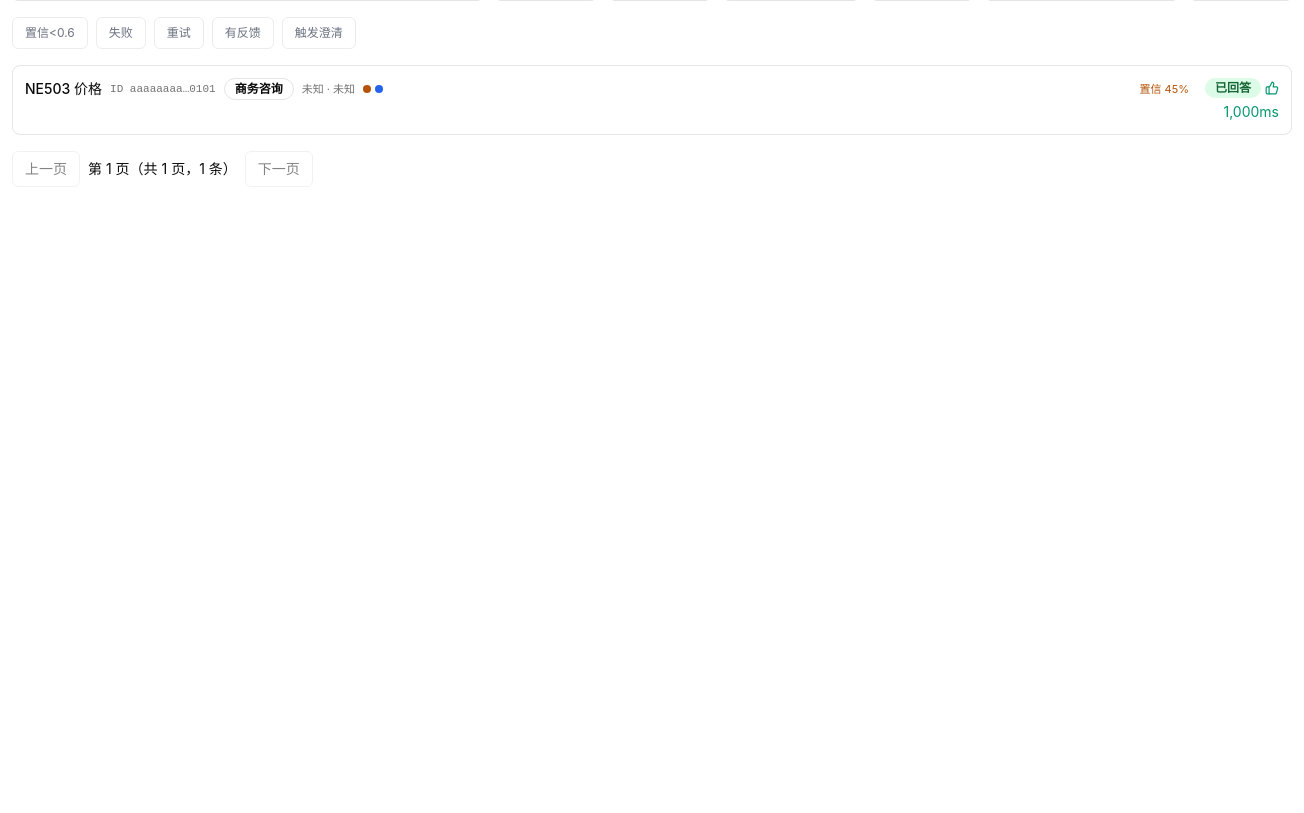
Test: Conversations 审查页 › commercial 对话显示联系销售提示
This screenshot has width=1304, height=813.
Click the text "NE503 价格" at (64,89), box [25,79,102,99]
(page scrolled)
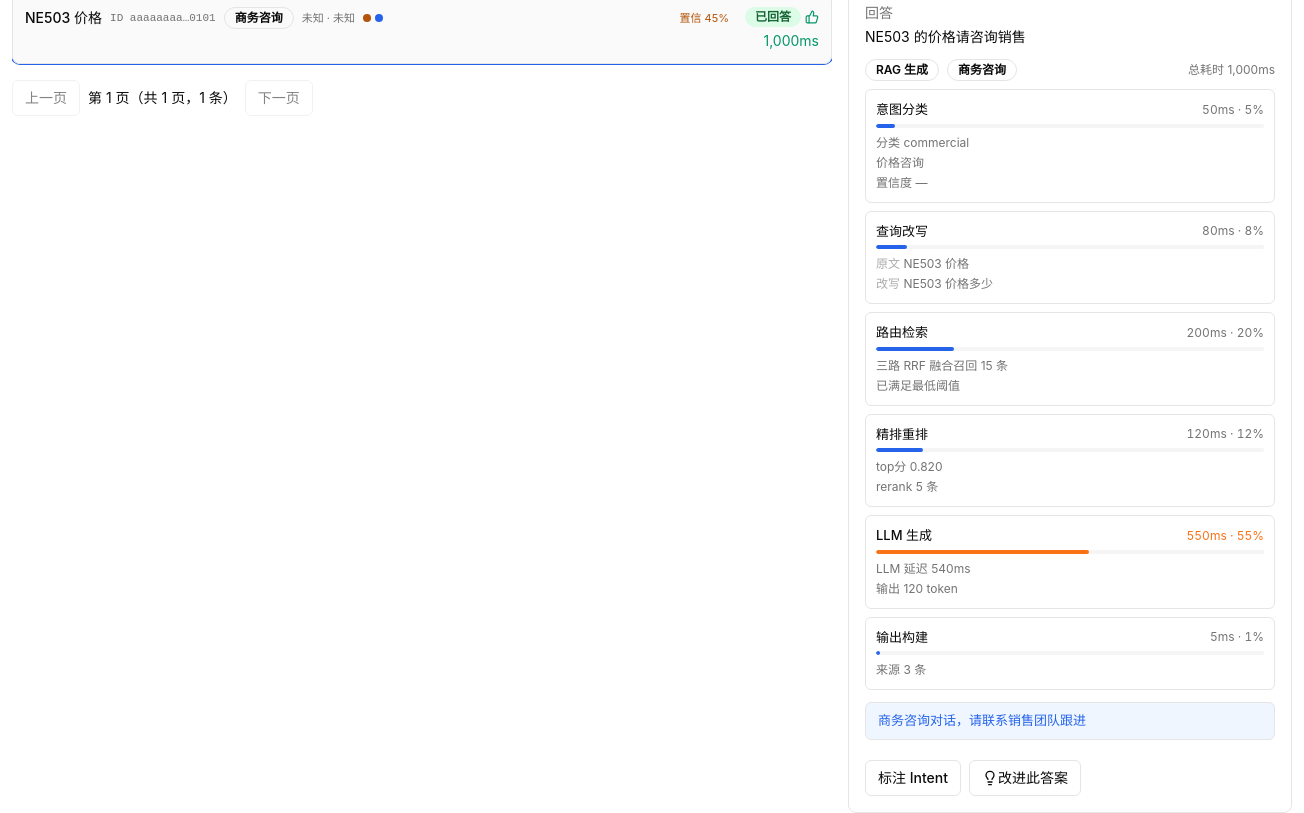
Check: the text "商务咨询对话，请联系销售团队跟进" is shown, box [865,702,1275,740]
